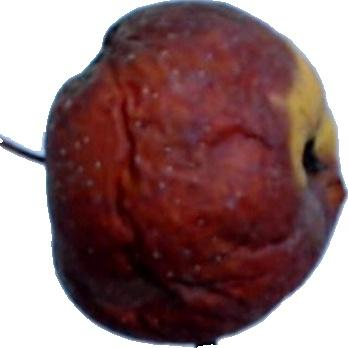Apple Overripe: (0, 0, 348, 309)
